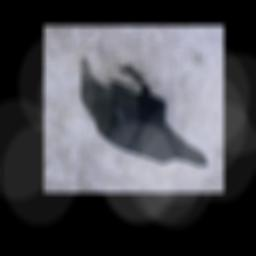Crow: (81, 57, 210, 167)
